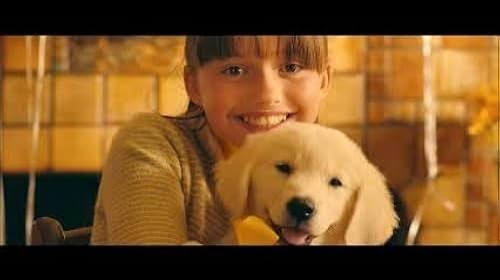non-dog: (87, 29, 334, 251)
puppy-dog: (210, 123, 401, 245)
